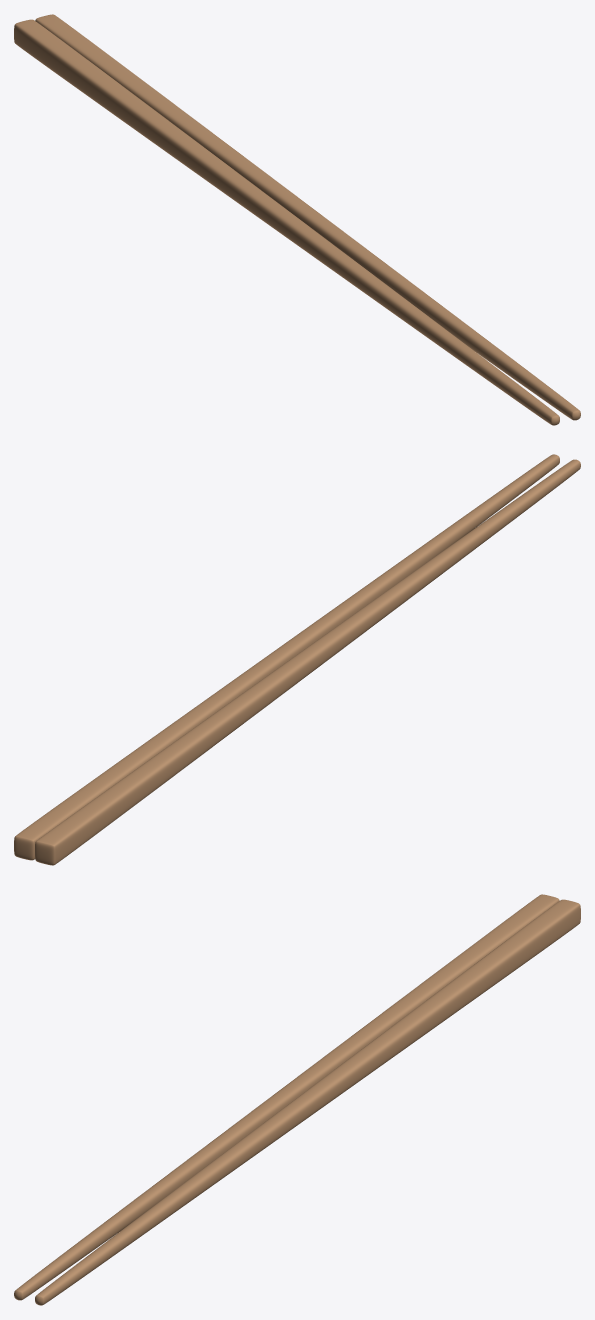
Rendered from ChopSticks.fbx.
The picture shows the model from 3 angles, top to bottom: view 1: azimuth 30°, elevation 25°; view 2: azimuth 150°, elevation 25°; view 3: azimuth 330°, elevation 25°; orthographic projection.
Parts seen in each view (by area): view 1: pCube2, pCube1; view 2: pCube2, pCube1; view 3: pCube1, pCube2.
Boxes of the visible parts, left/top/right/bottom form: pCube2: left=14, top=19, right=559, bottom=425; pCube1: left=35, top=14, right=580, bottom=420; pCube2: left=35, top=459, right=580, bottom=865; pCube1: left=14, top=454, right=559, bottom=860; pCube1: left=35, top=899, right=580, bottom=1305; pCube2: left=14, top=894, right=559, bottom=1300.
Bounding box in the file's own units: 1.84 × 0.9258 × 40.42.
